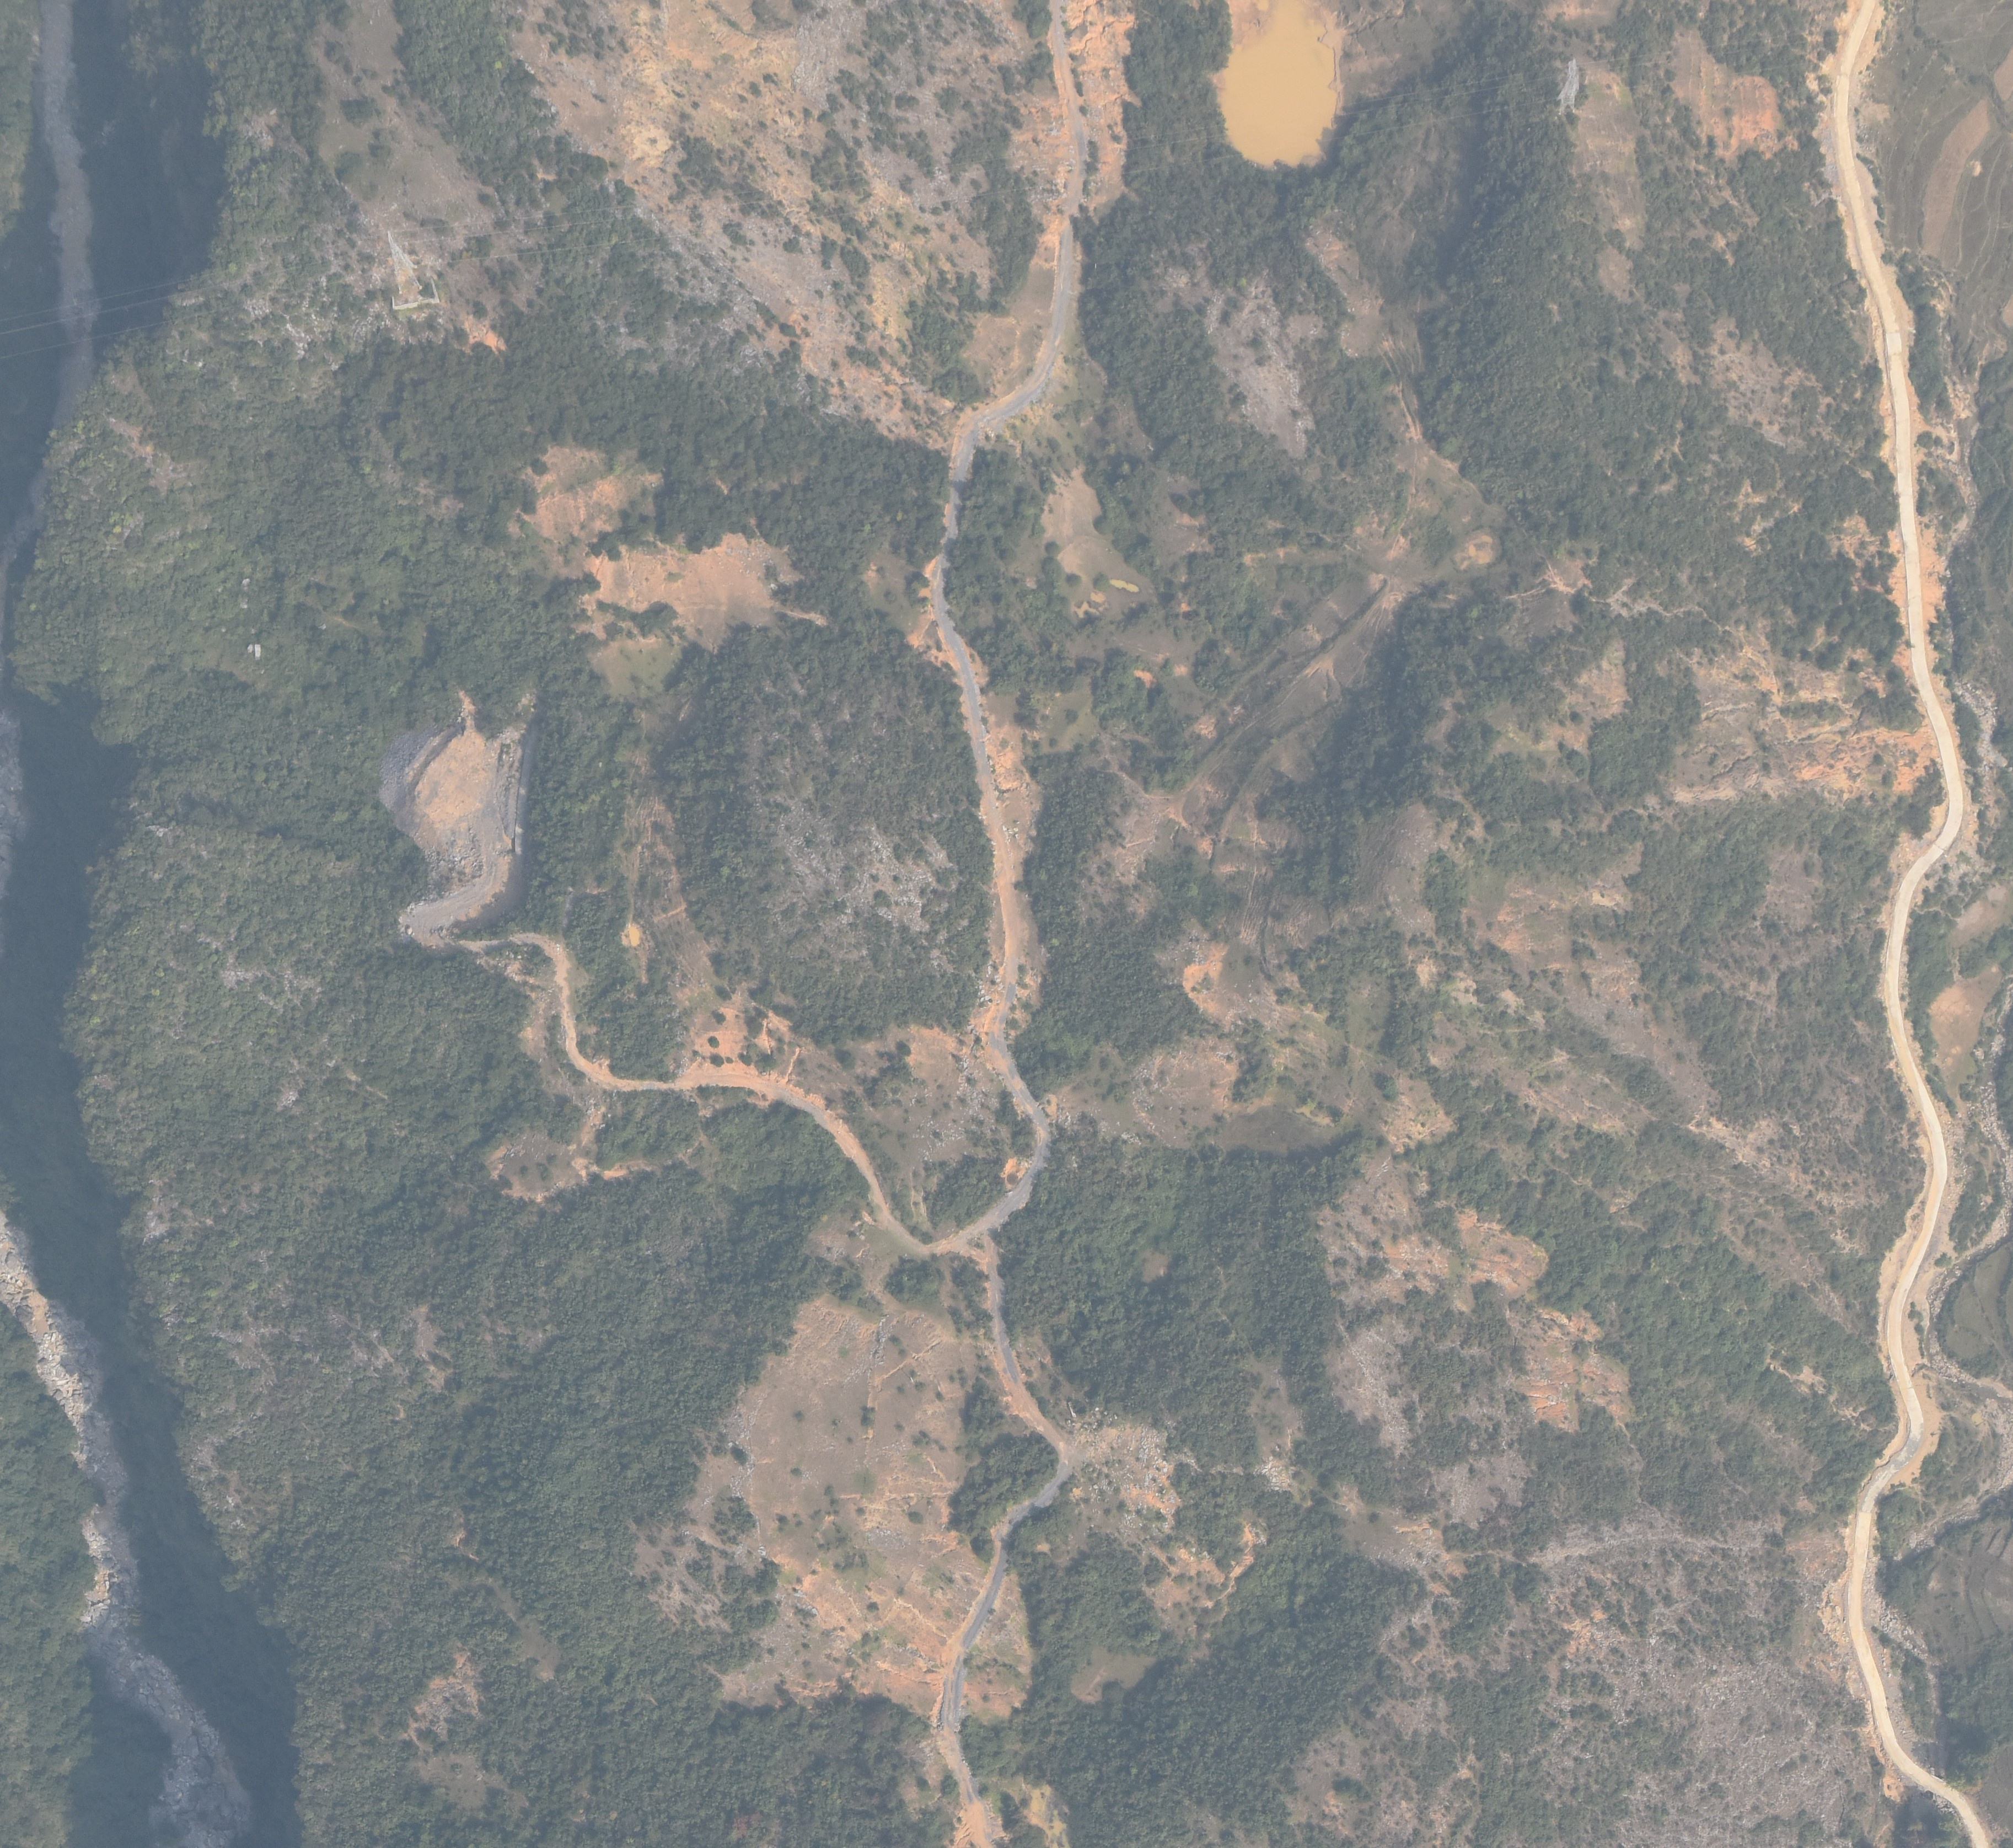cable-tower: (387, 231, 440, 308), (1557, 59, 1582, 113)
pool: (1209, 1, 1344, 169)
quarry: (375, 717, 538, 945)
